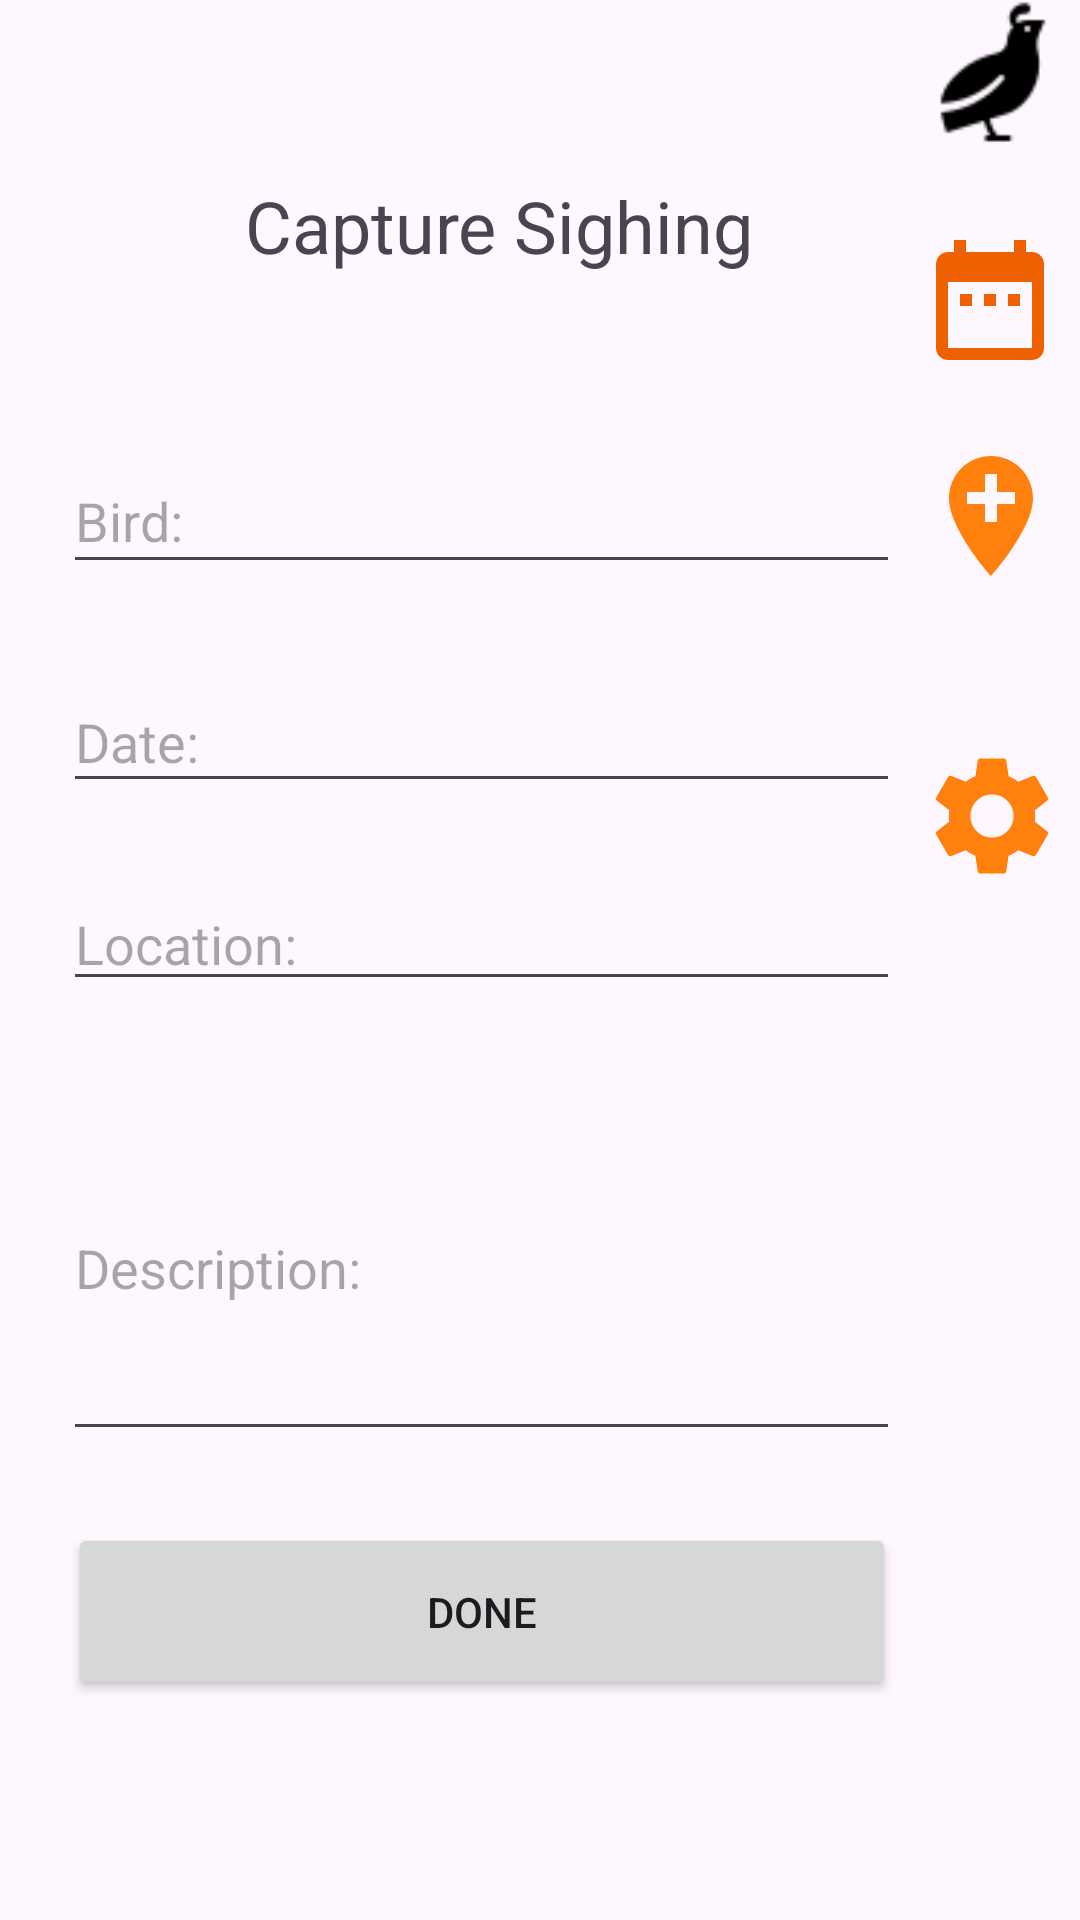

Where icons sit on this 1080w x 1920h app screen, as rect(x1, y1, x2, y2):
date: rect(936, 240, 1044, 360)
location: rect(949, 456, 1033, 576)
settings: rect(936, 758, 1048, 874)
